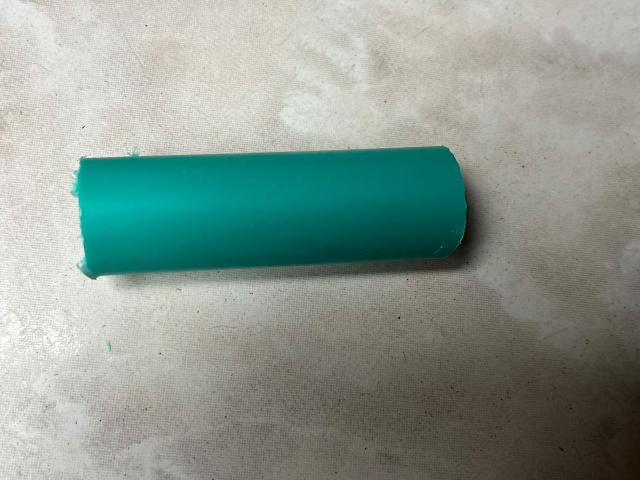PVC: (67, 134, 500, 301)
